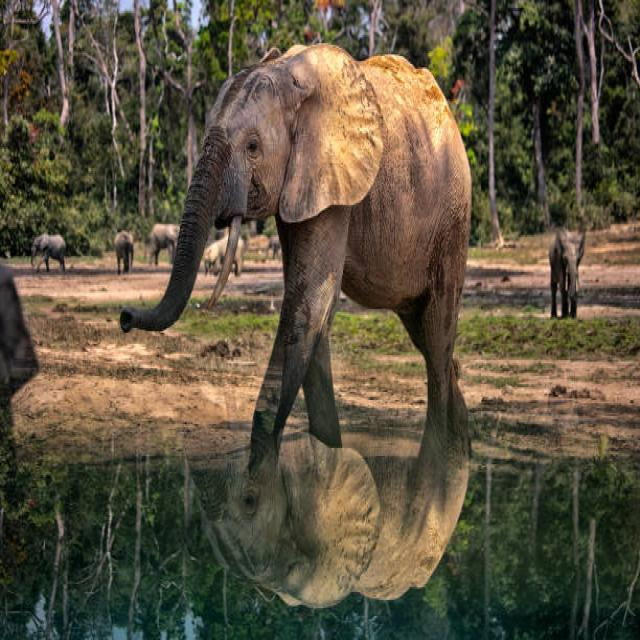Elephant: (118, 36, 481, 481), (530, 205, 593, 322), (147, 217, 187, 268), (28, 225, 67, 274), (112, 228, 135, 276)
